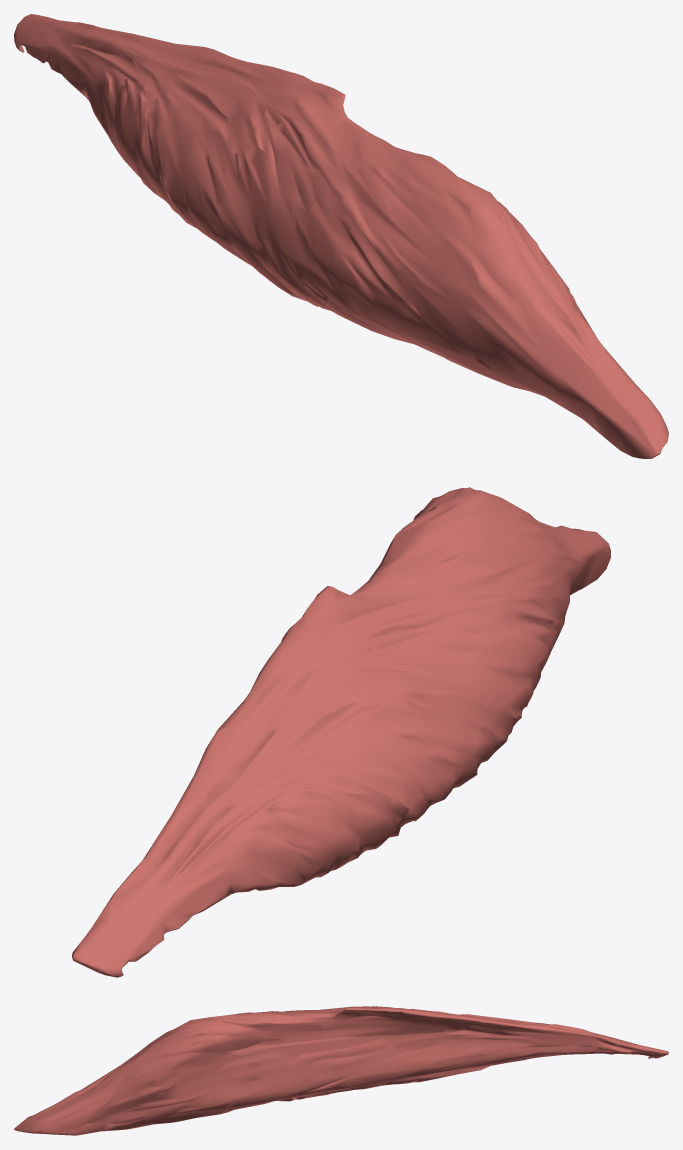
3 views of the same model, one above another, from view 1: azimuth 30°, elevation 25°; view 2: azimuth 150°, elevation 25°; view 3: azimuth 270°, elevation 25° (orthographic). The views are drawn at different scales.
Parts seen in each view (by area): view 1: 右侧肱三头肌外侧头; view 2: 右侧肱三头肌外侧头; view 3: 右侧肱三头肌外侧头.
Part boxes in pixels (bbox=[...]): 右侧肱三头肌外侧头: bbox=[14, 14, 668, 458]; 右侧肱三头肌外侧头: bbox=[72, 487, 610, 977]; 右侧肱三头肌外侧头: bbox=[14, 1006, 668, 1135].
Bounding box in the file's own units: 0.0828 × 0.0747 × 0.3901.
